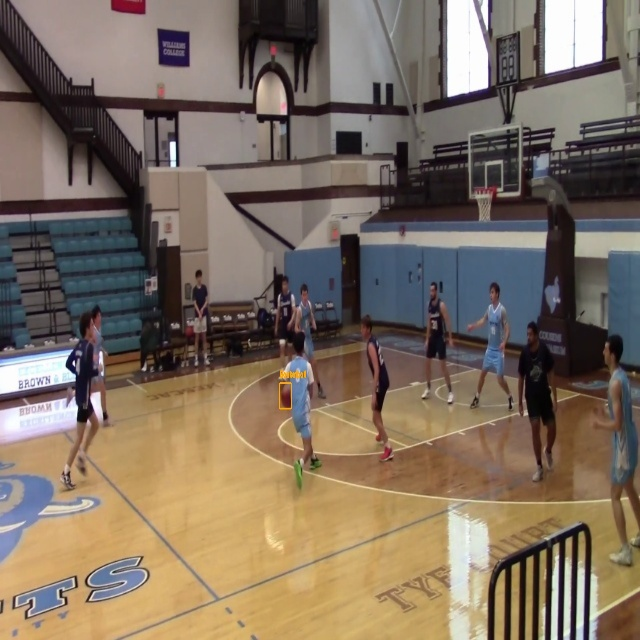Basketball: (280, 383, 291, 409)
